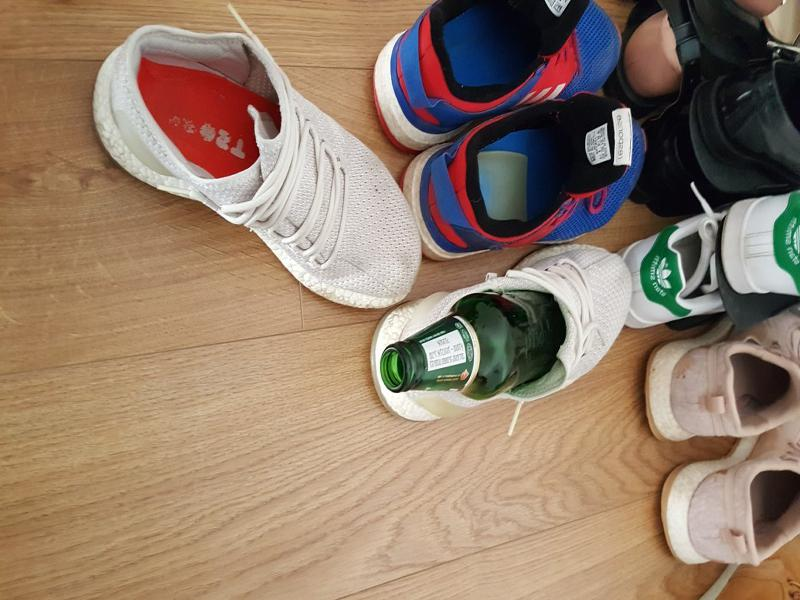Beer: (379, 288, 563, 399)
